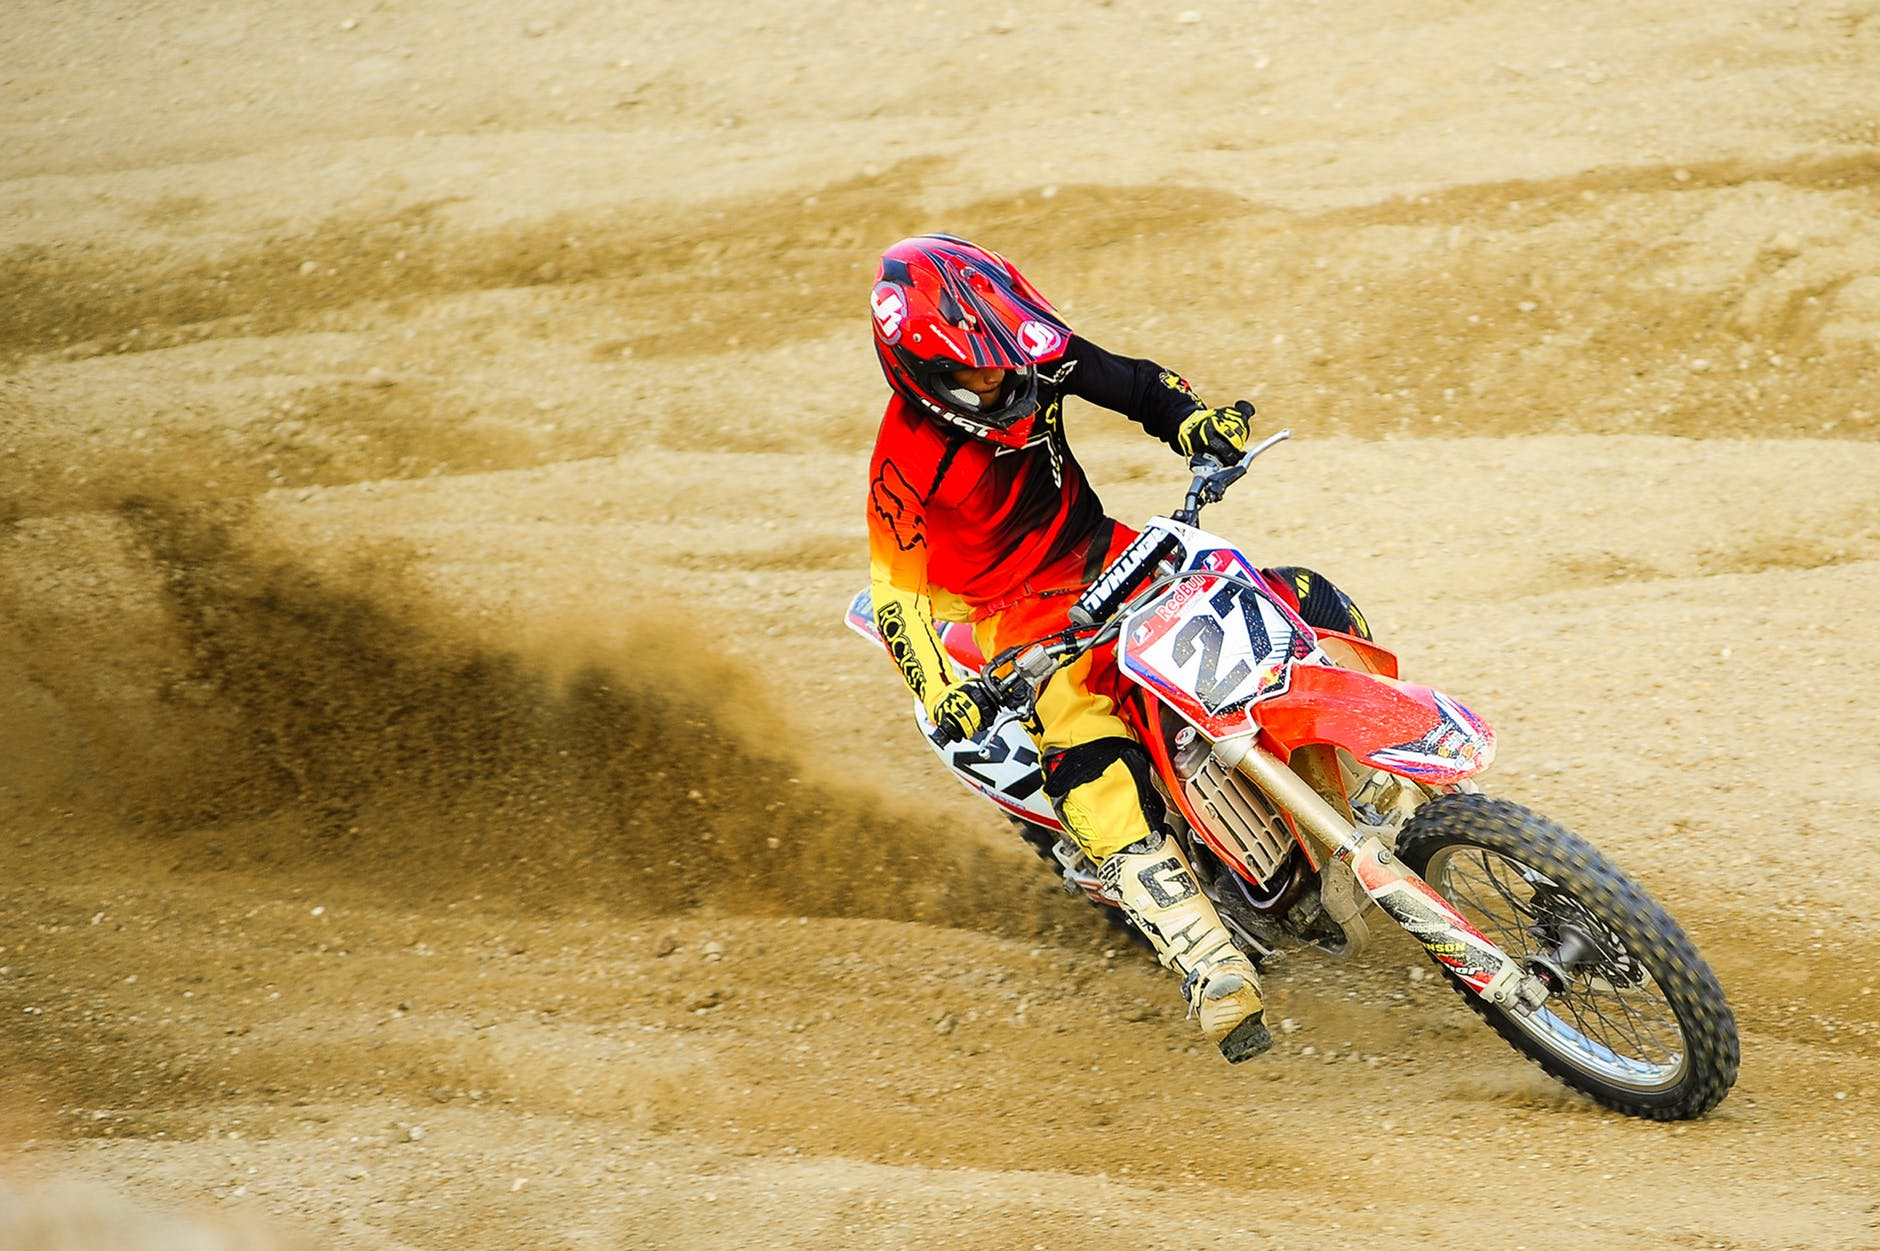helmet: (872, 253, 1064, 431)
